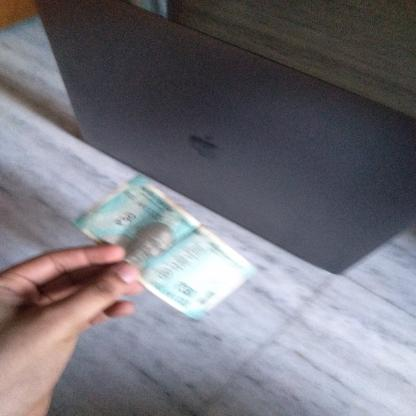New50Front: (89, 184, 234, 314)
